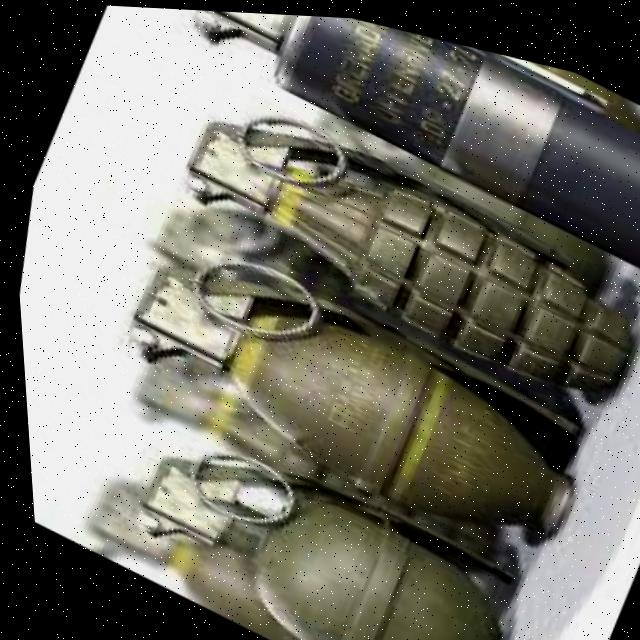grenade: (68, 195, 629, 587), (123, 52, 640, 410), (148, 6, 640, 279), (79, 396, 535, 640)
